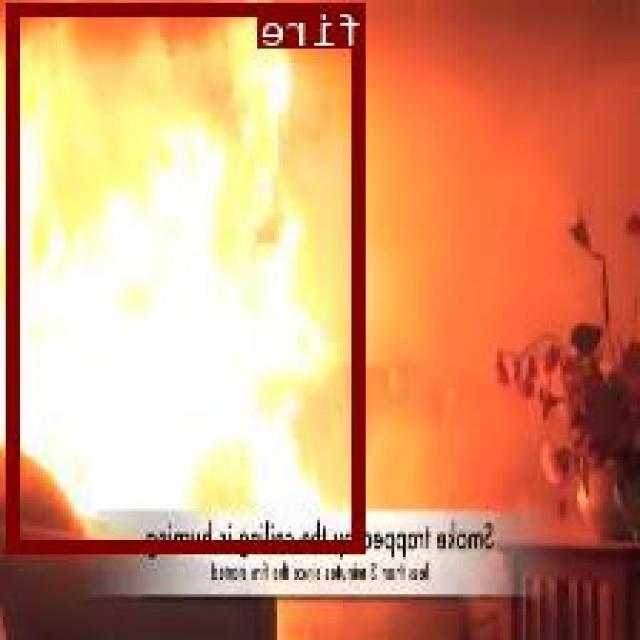fire: (9, 1, 368, 551)
